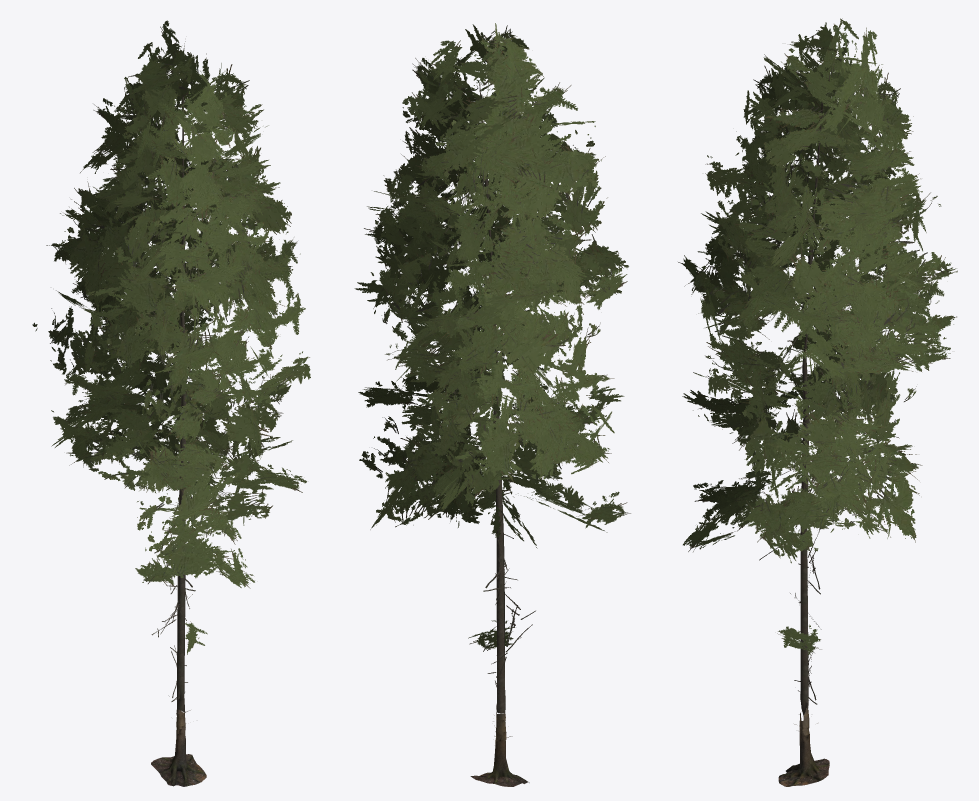
The picture shows the model from 3 angles, left to right: view 1: azimuth 30°, elevation 25°; view 2: azimuth 150°, elevation 25°; view 3: azimuth 270°, elevation 25°; orthographic projection. The views are drawn at different scales.
Parts seen in each view (by area): view 1: fir_tree_01__a_lod2; view 2: fir_tree_01__a_lod2; view 3: fir_tree_01__a_lod2.
Part boxes in pixels (x1,y1,x2,y2): fir_tree_01__a_lod2: (32,20,310,786); fir_tree_01__a_lod2: (354,23,630,786); fir_tree_01__a_lod2: (678,18,957,786).
Size of the model in its own units: 6.88 by 19.12 by 6.76.
Materials: 3 (3 with a texture image).
